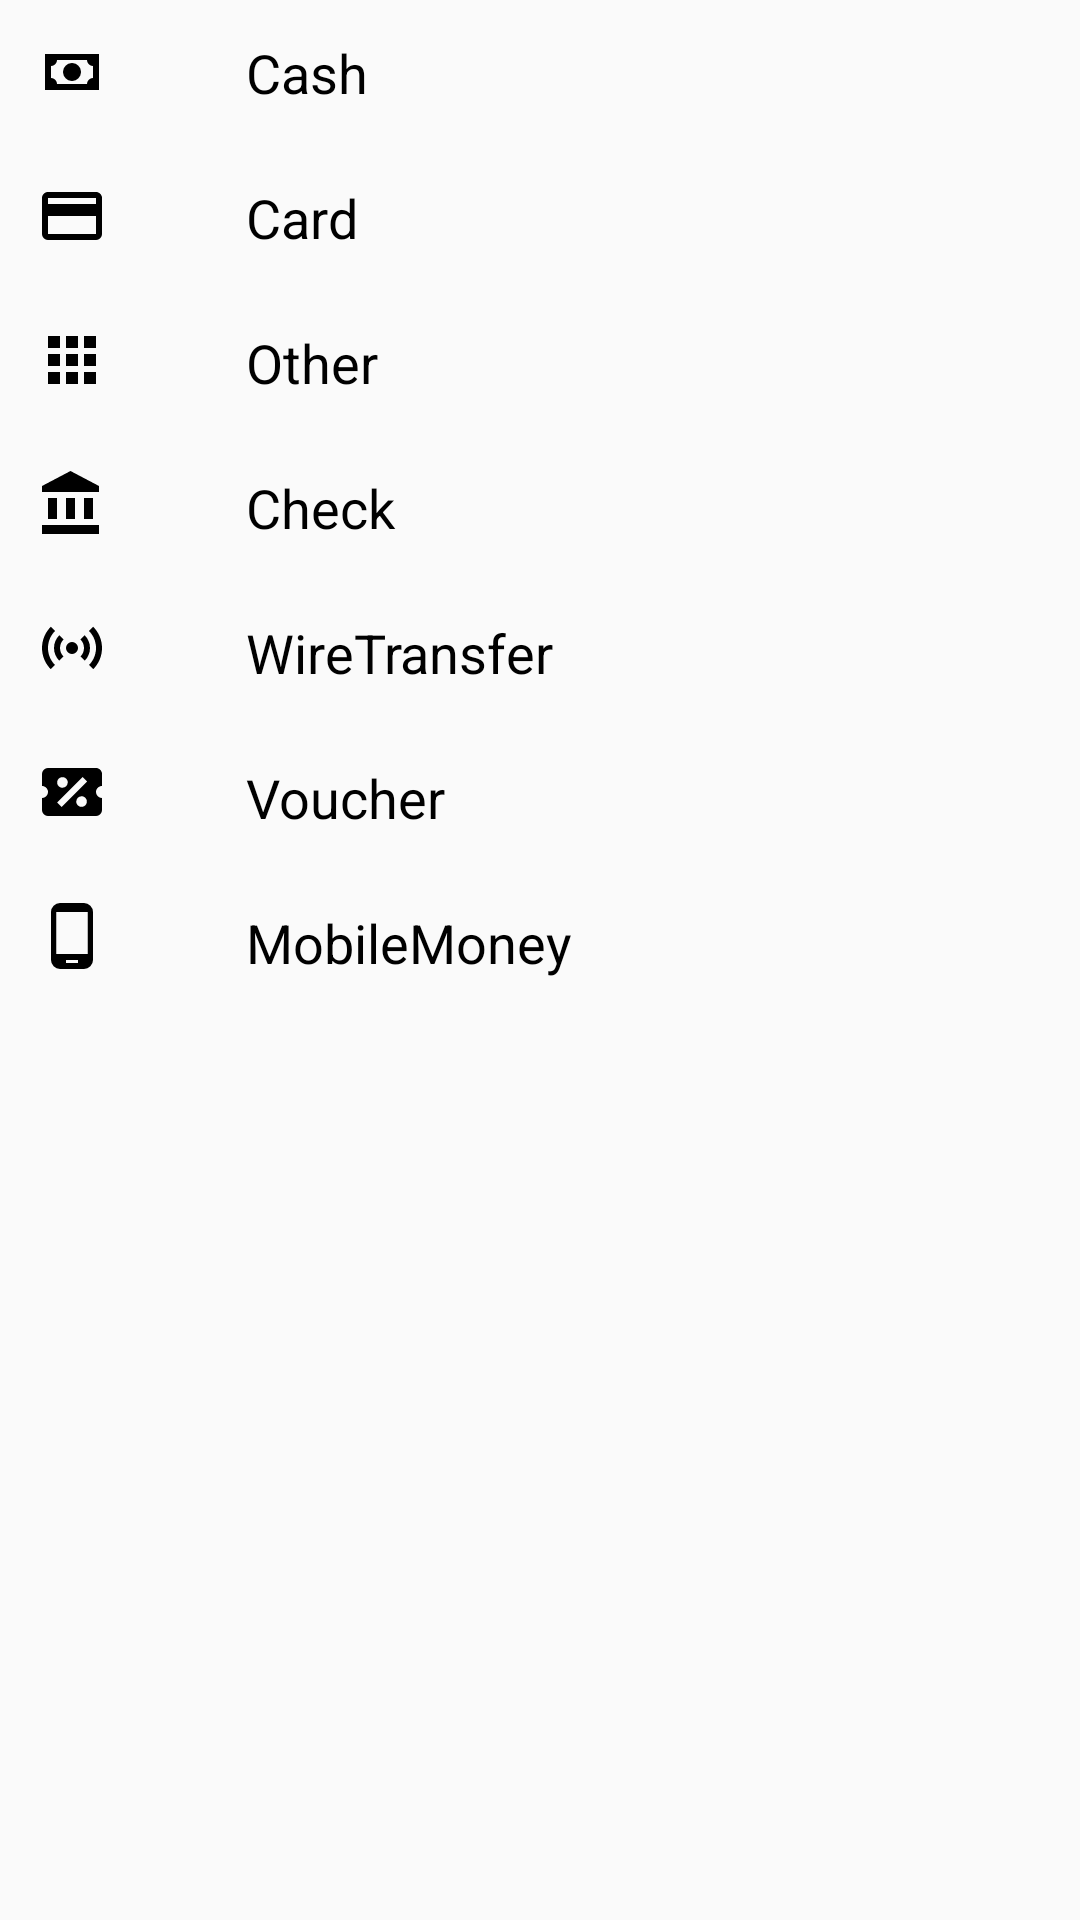

Icons on this 1080w x 1920h Android screen, each with the point to tap as (x,y):
access point: (72,648)
apps: (72,360)
bank: (70,502)
cellphone android: (72,936)
ticket percent: (72,792)
